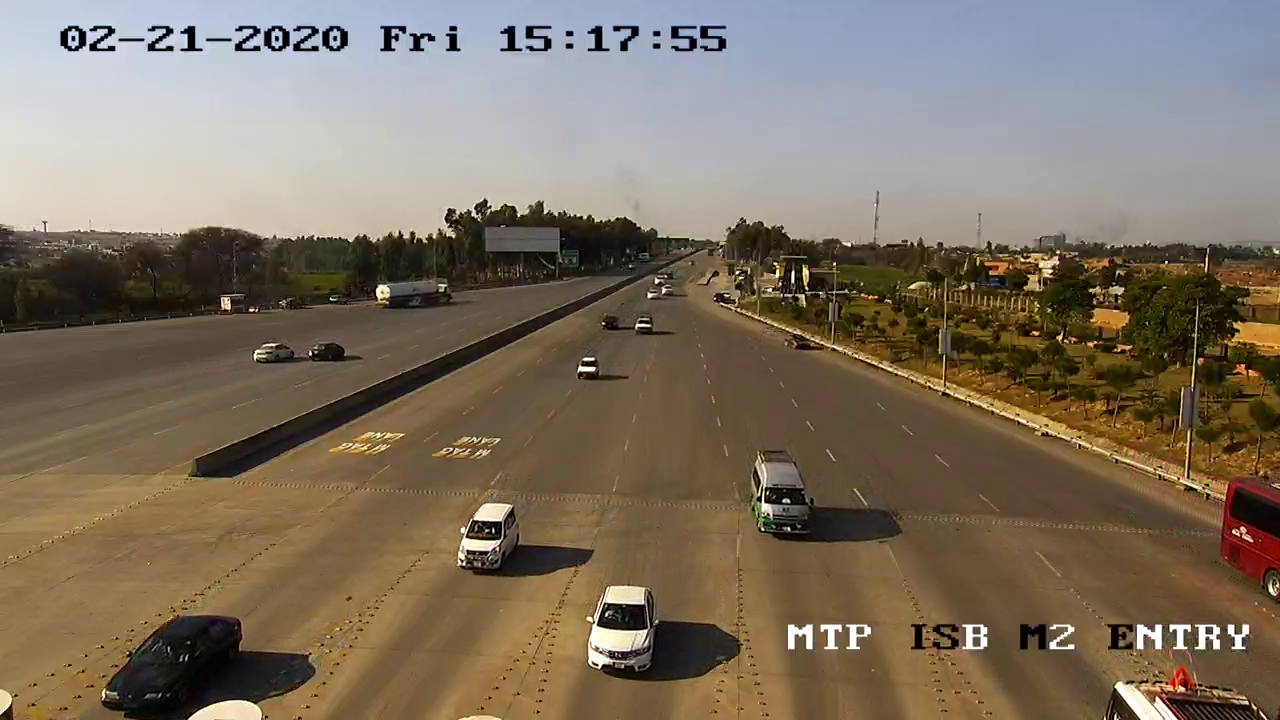f1: (96, 595, 245, 720), (579, 575, 667, 684), (445, 496, 528, 579)
f2: (743, 442, 823, 548)
